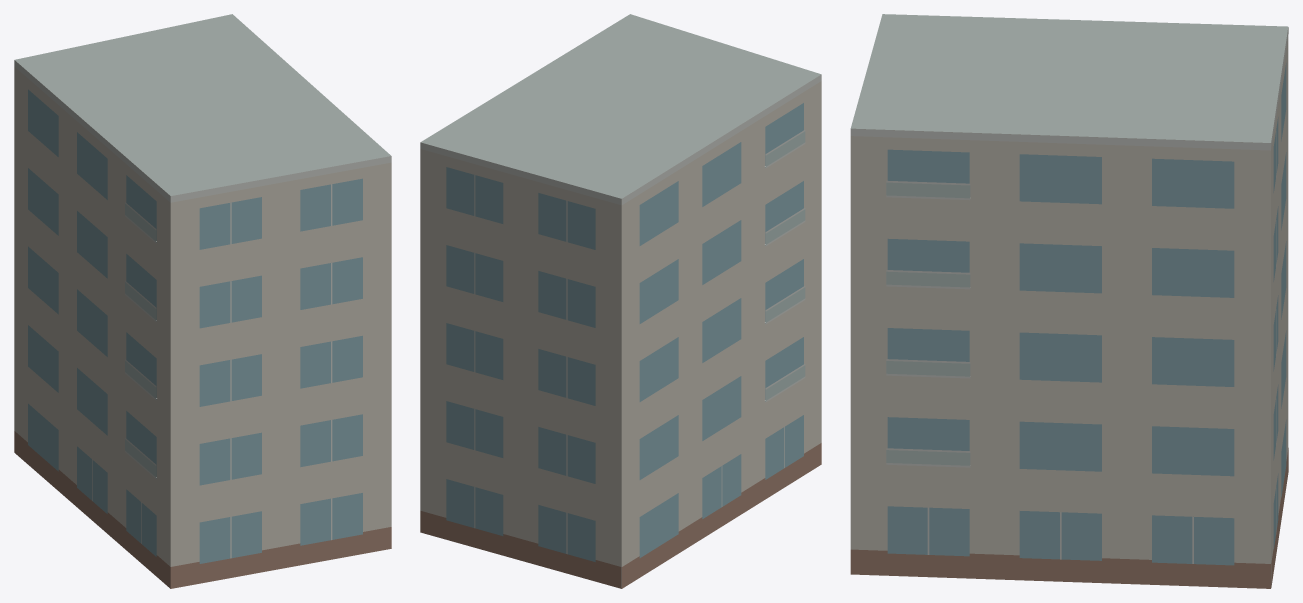
Rendered from survey-upis-32536800.glb.
3 views of the same model, side by side, from view 1: azimuth 30°, elevation 25°; view 2: azimuth 150°, elevation 25°; view 3: azimuth 270°, elevation 25° (orthographic). The views are drawn at different scales.
Visible parts, largest first — view 1: survey-upis-32536800.tmp; view 2: survey-upis-32536800.tmp; view 3: survey-upis-32536800.tmp.
Boxes of the visible parts, <box> form: survey-upis-32536800.tmp: <box>14,14,391,588</box>; survey-upis-32536800.tmp: <box>420,14,821,588</box>; survey-upis-32536800.tmp: <box>850,14,1288,588</box>.
Size of the model in its own units: 9.07 by 14.6 by 13.
